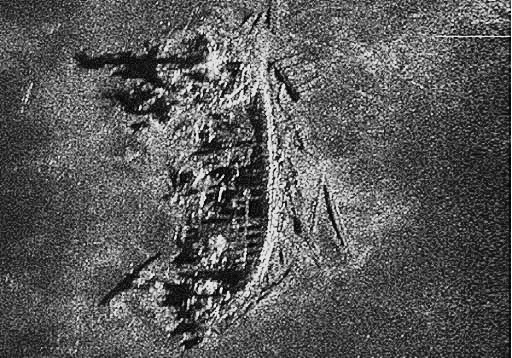ship: (107, 15, 360, 349)
